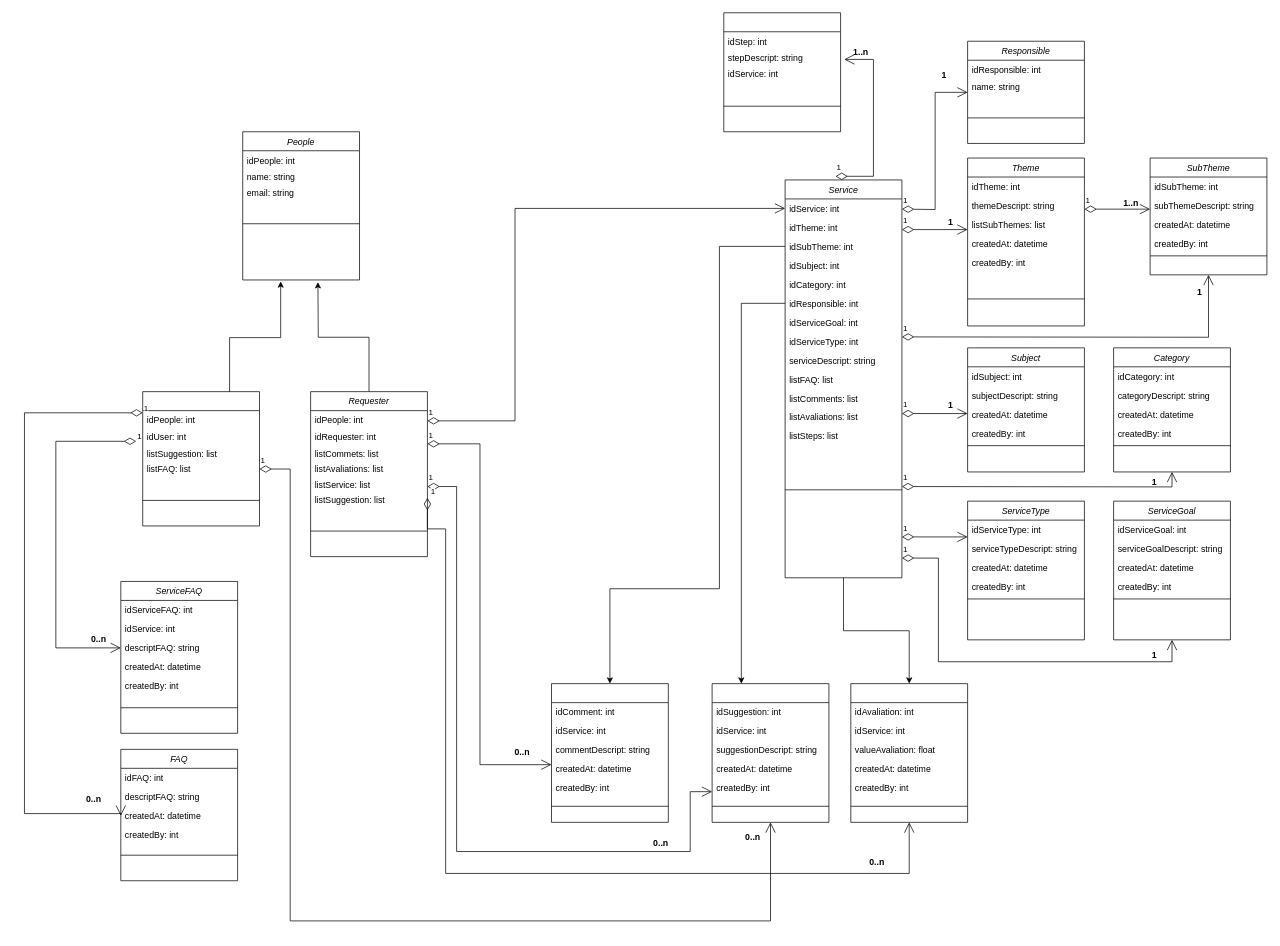
Some shapes in this 1280 by 946 pixel diagram are drawn without their labels. The box of each missing label's shape, as (x1, y1, x2, y2) in pixels:
Creator: (142, 391, 260, 526)
ServiceAvaliations: (850, 683, 968, 822)
ServiceComments: (551, 683, 668, 822)
ServiceSteps: (723, 12, 841, 132)
ServiceSuggestions: (711, 683, 829, 822)
